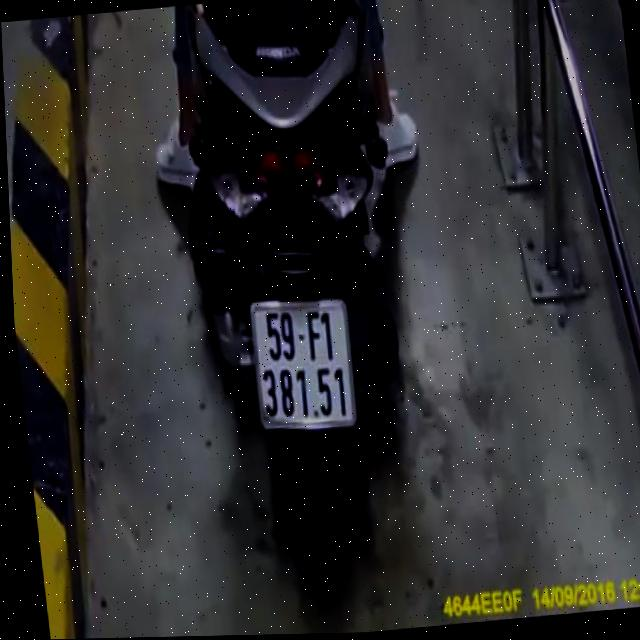motorcycle: (164, 0, 439, 594)
plate: (241, 290, 364, 442)
